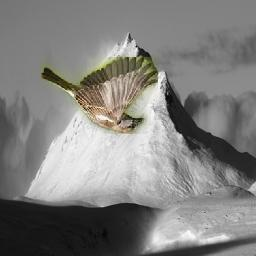Sparrow: (42, 58, 159, 135)
